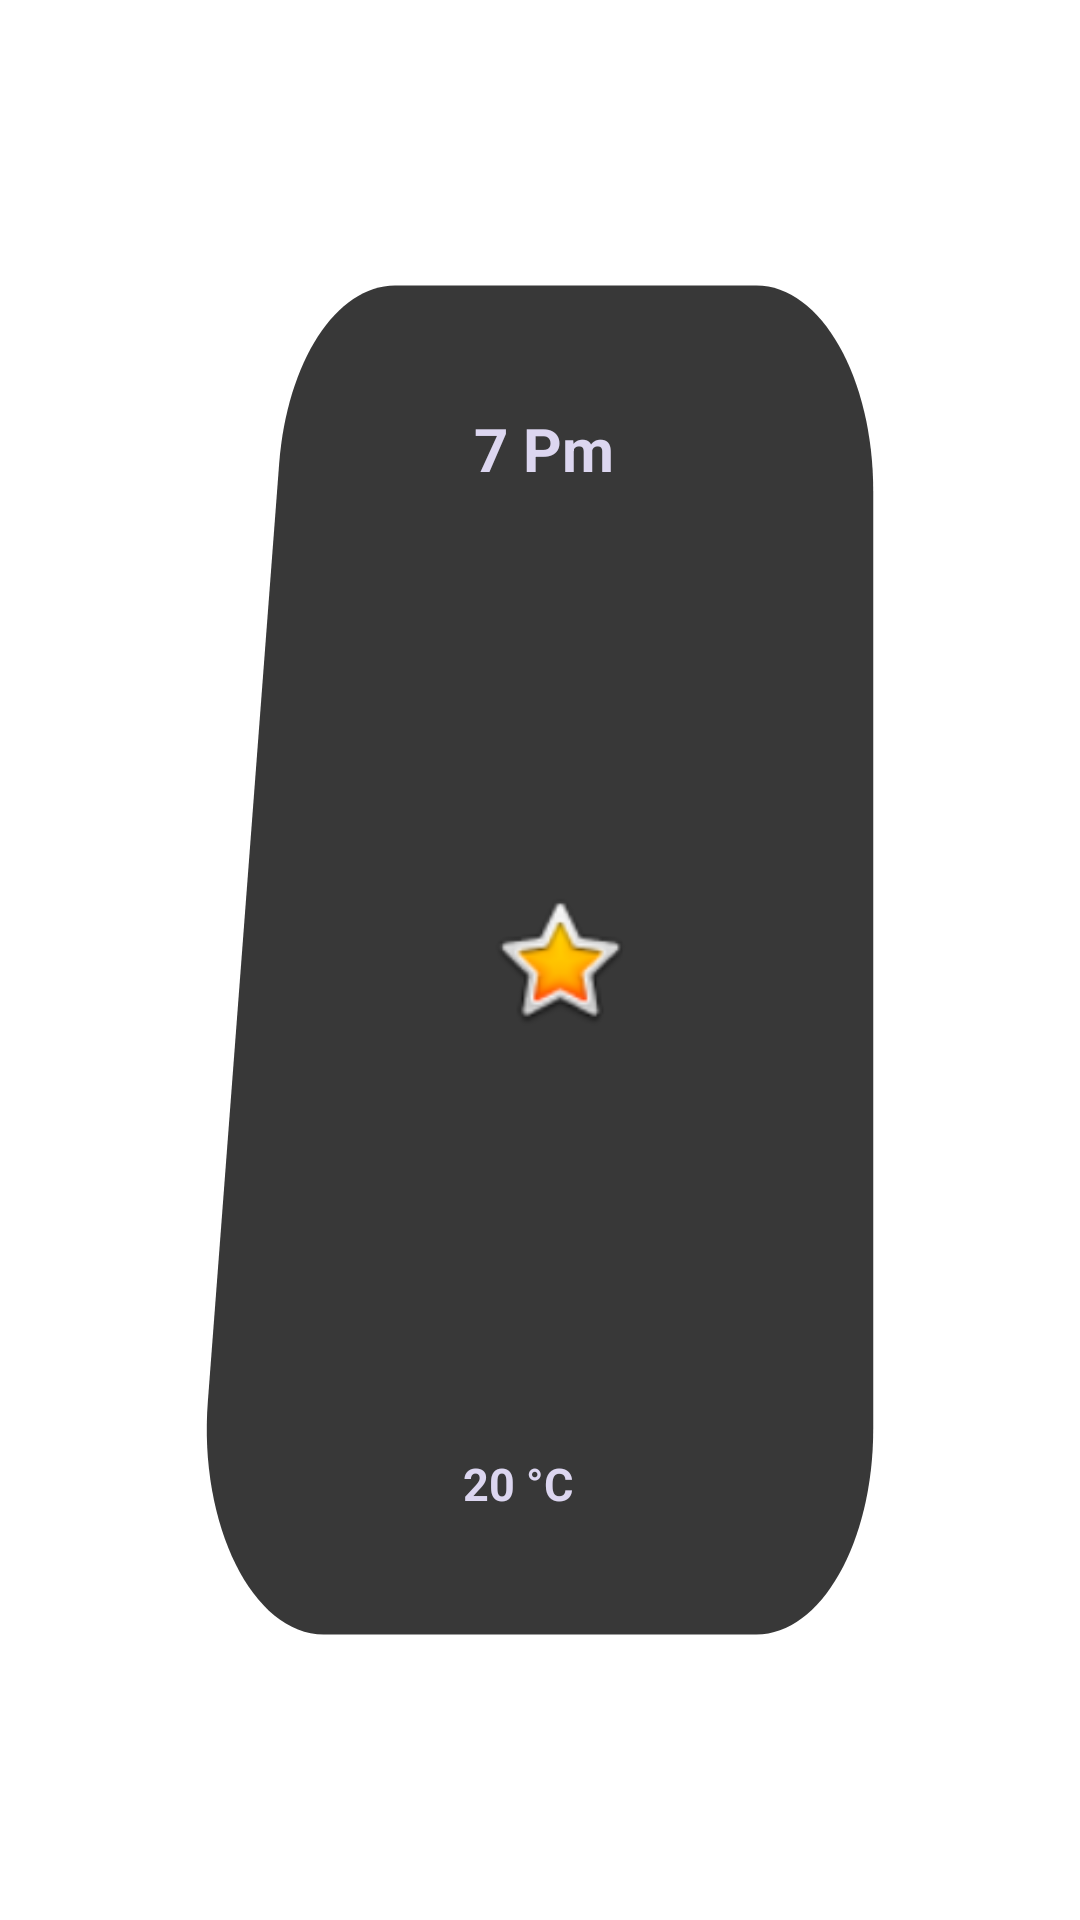

Where icons sit on this 1080 × 1920 app screen, as (x1, y1, x2, y2):
star on: (502, 903, 620, 1016)
